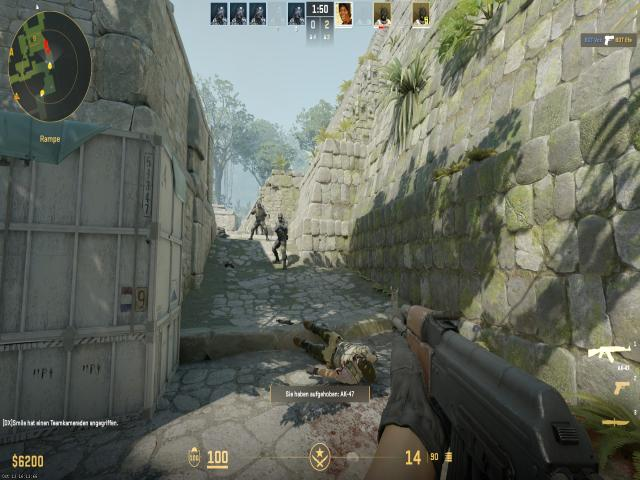CT: (270, 210, 294, 270), (252, 200, 267, 241)
CT-Head: (276, 211, 286, 224), (256, 200, 262, 212)
Dead: (295, 318, 388, 396)
